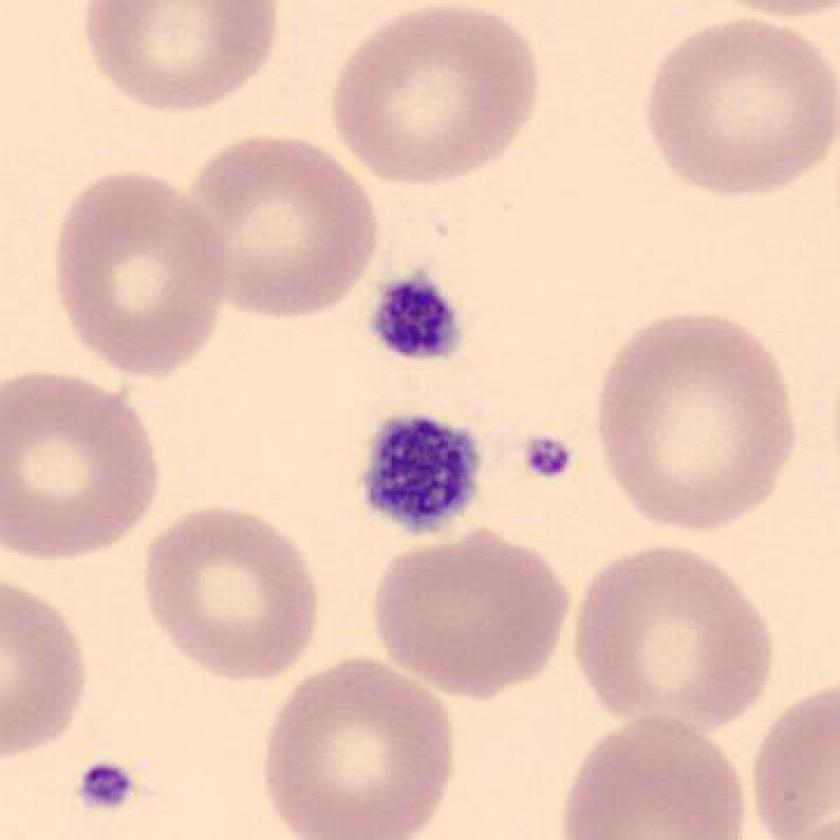platelets: (358, 413, 500, 538), (368, 270, 466, 374), (71, 753, 141, 827), (524, 429, 580, 485)
